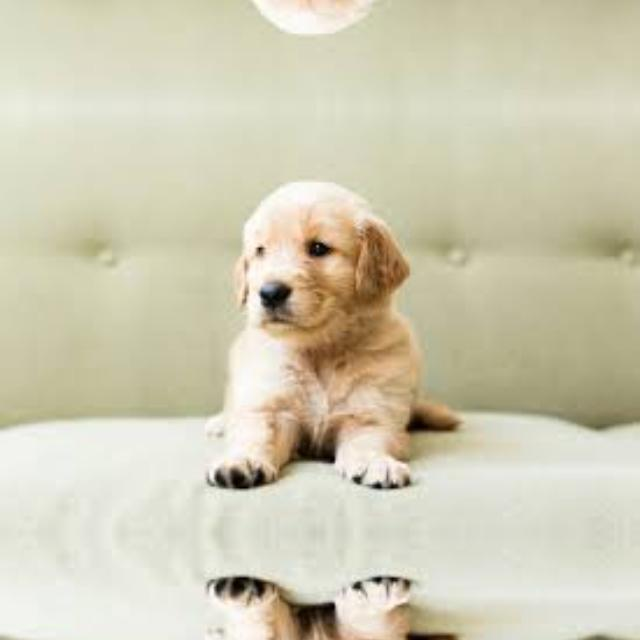dog: (204, 160, 452, 498), (204, 568, 452, 640), (204, 0, 452, 53)
